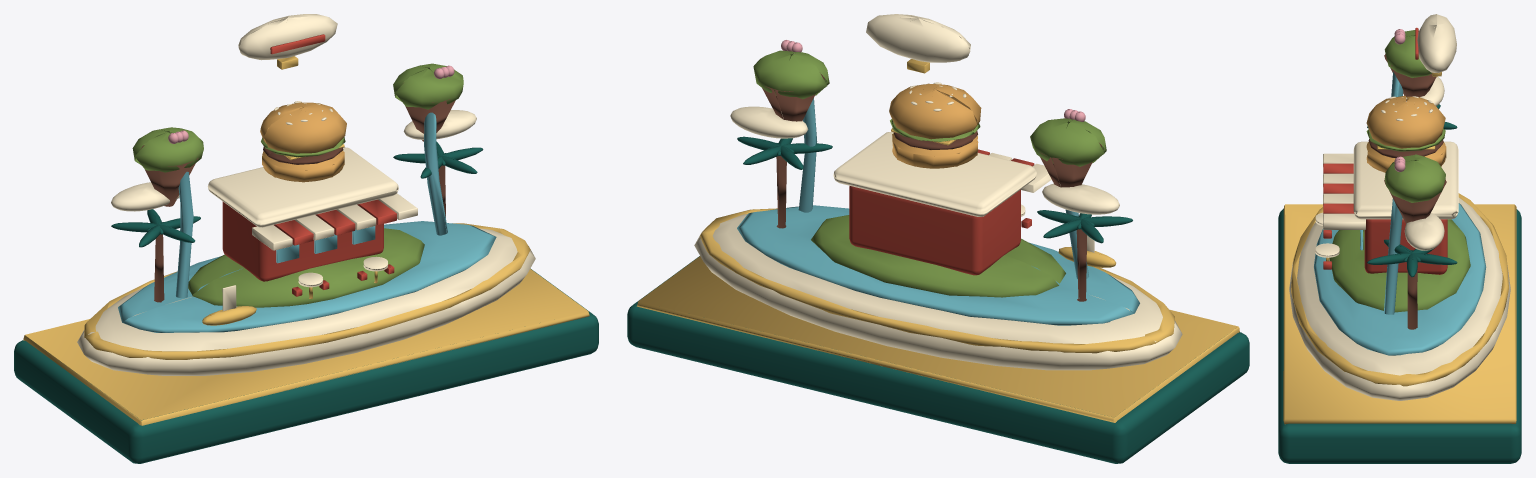
3 views of the same model, side by side, from view 1: azimuth 30°, elevation 25°; view 2: azimuth 150°, elevation 25°; view 3: azimuth 270°, elevation 25° (orthographic). The views are drawn at different scales.
Parts seen in each view (by area): view 1: Porcelain world platter, Jade footing, Brass welt, Island lagoon, Restaurant island, Tiny restaurant, Lower bun, Patty, Airship envelope, Little boat; view 2: Porcelain world platter, Jade footing, Brass welt, Island lagoon, Restaurant island, Tiny restaurant, Lower bun, Patty, Airship envelope; view 3: Brass welt, Porcelain world platter, Jade footing, Island lagoon, Restaurant island, Lower bun, Tiny restaurant, Patty, Airship envelope, Garden flower.
Part boxes in pixels (bbox=[...]): Porcelain world platter: bbox=[77, 101, 535, 375]; Jade footing: bbox=[14, 141, 598, 463]; Brass welt: bbox=[23, 144, 589, 425]; Island lagoon: bbox=[118, 112, 496, 332]; Restaurant island: bbox=[132, 63, 463, 307]; Tiny restaurant: bbox=[222, 199, 396, 296]; Lower bun: bbox=[260, 102, 346, 182]; Patty: bbox=[141, 83, 455, 302]; Airship envelope: bbox=[238, 14, 337, 60]; Little boat: bbox=[202, 306, 256, 325]; Porcelain world platter: bbox=[694, 82, 1182, 370]; Jade footing: bbox=[627, 136, 1249, 463]; Brass welt: bbox=[637, 128, 1239, 422]; Island lagoon: bbox=[737, 98, 1139, 325]; Restaurant island: bbox=[753, 50, 1106, 297]; Tiny restaurant: bbox=[849, 149, 1034, 275]; Lower bun: bbox=[889, 83, 981, 168]; Patty: bbox=[762, 73, 1101, 301]; Airship envelope: bbox=[866, 14, 970, 62]; Brass welt: bbox=[1283, 145, 1516, 424]; Porcelain world platter: bbox=[1289, 76, 1510, 400]; Jade footing: bbox=[1278, 104, 1521, 463]; Island lagoon: bbox=[1314, 72, 1486, 355]; Restaurant island: bbox=[1329, 30, 1470, 312]; Lower bun: bbox=[1366, 95, 1446, 172]; Tiny restaurant: bbox=[1323, 163, 1447, 274]; Patty: bbox=[1368, 54, 1446, 329]; Airship envelope: bbox=[1417, 14, 1456, 73]; Garden flower: bbox=[1394, 29, 1405, 171].
Size of the model in its own units: 1.73 by 1.18 by 0.79.
